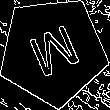M_SE: (22, 19, 84, 84)
